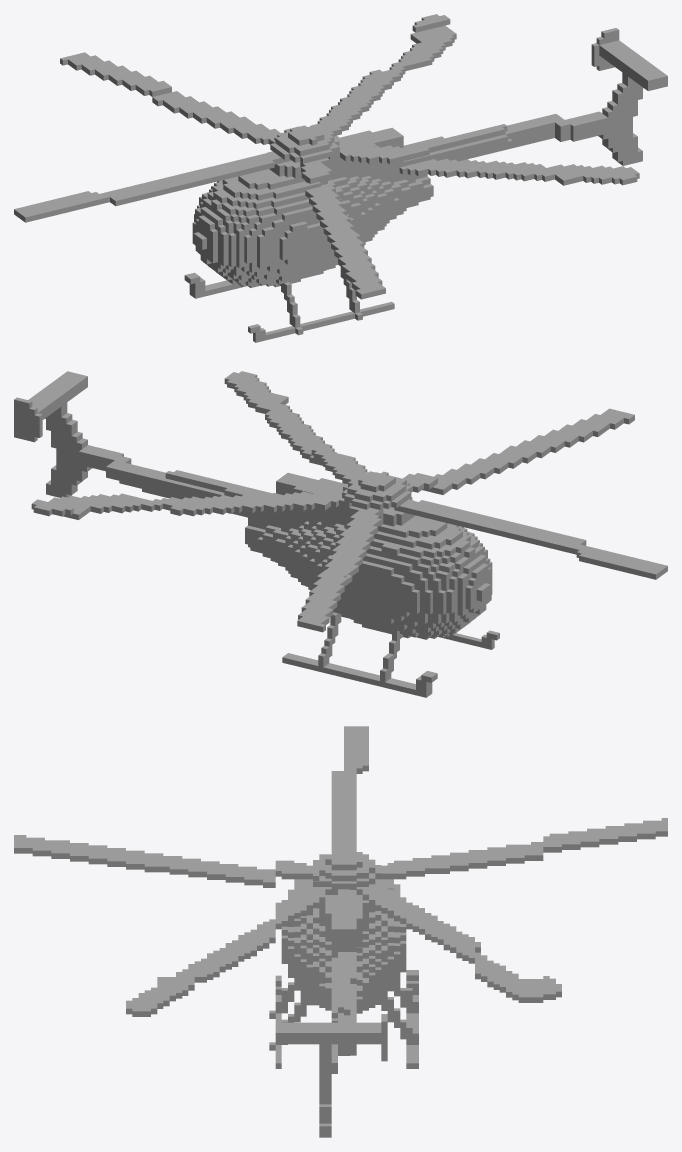
Rendered from Helicopter.obj.
3 renders of one model, top to bottom at view 1: azimuth 30°, elevation 25°; view 2: azimuth 150°, elevation 25°; view 3: azimuth 270°, elevation 25°, orthographic. The views are drawn at different scales.
Bounding box in the file's own units: 123 × 34 × 105.
Materials: 1 (1 with a texture image).
